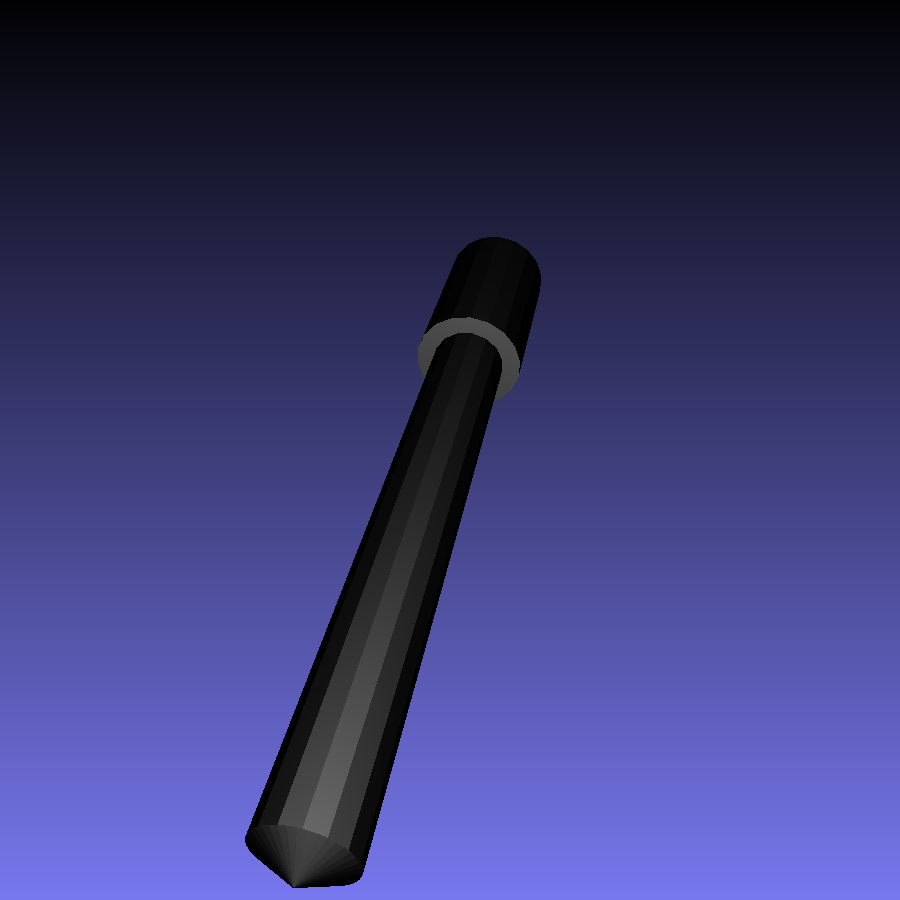cargo_g: (244, 236, 539, 889)
